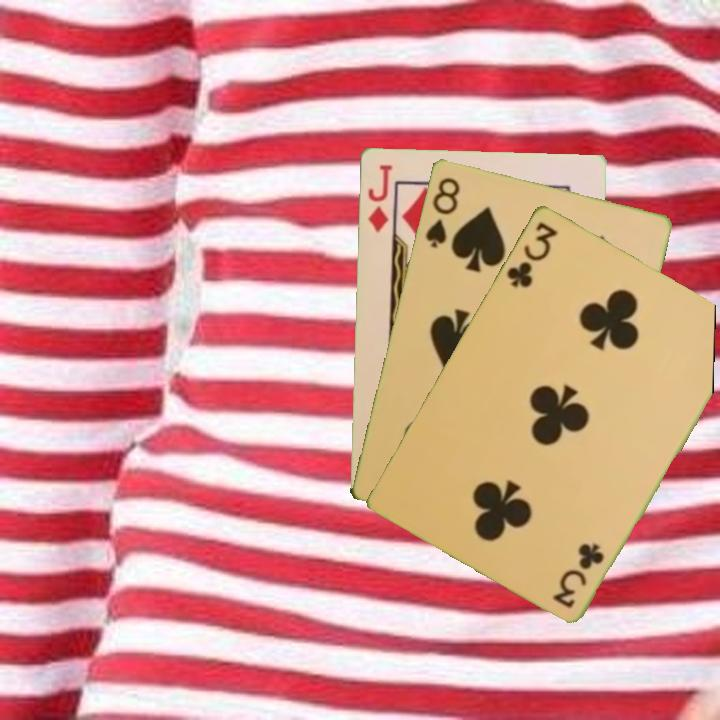3c: (502, 217, 561, 290), (550, 539, 607, 611)
8s: (421, 173, 463, 250)
Jd: (364, 160, 395, 235)
